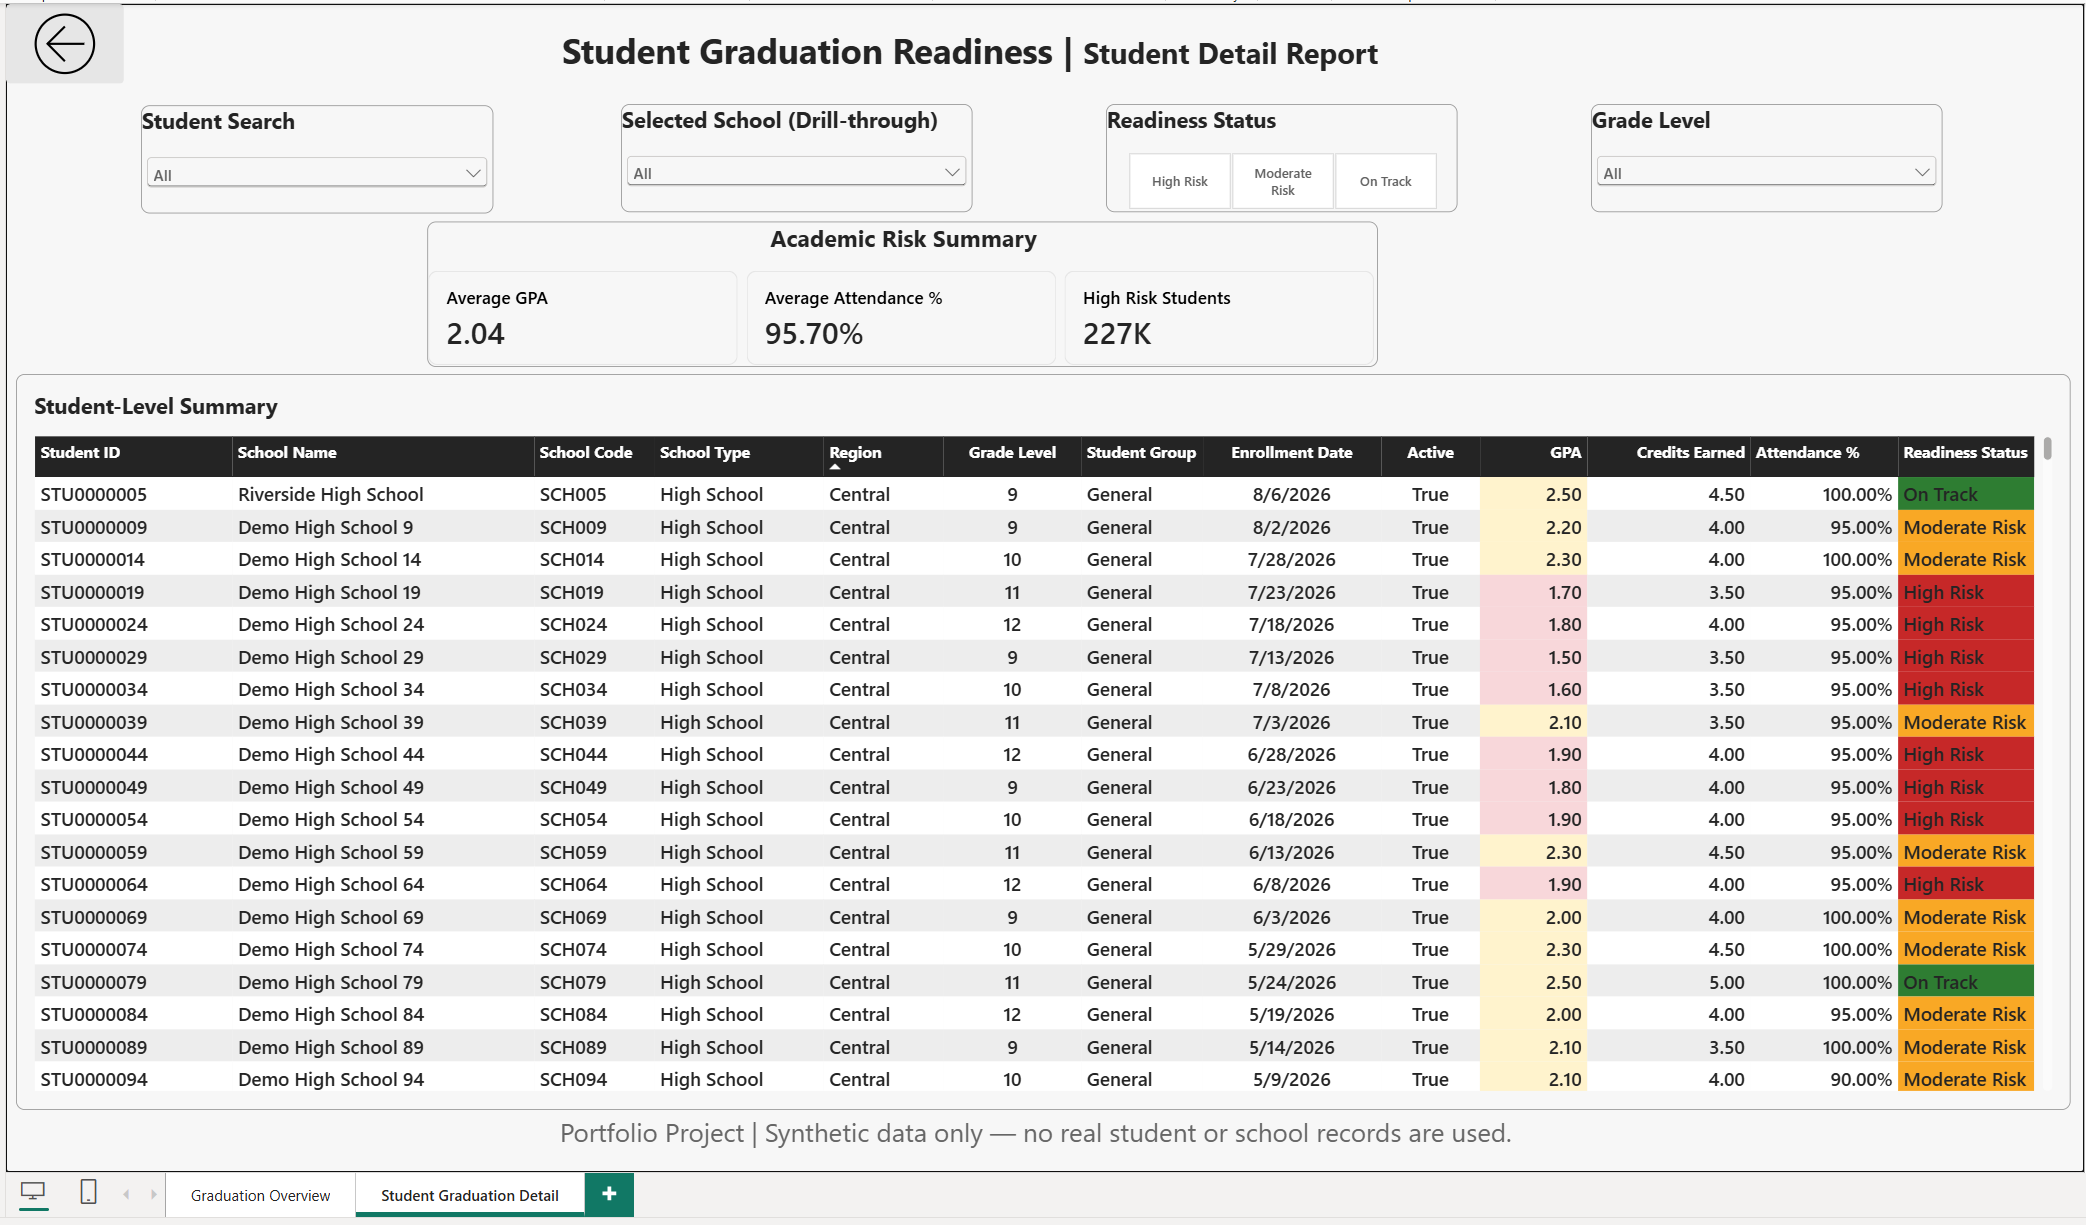

This screenshot's page, from the dashboard's own definition file:
{"tool":"powerbi","page":{"name":"Student Graduation Detail","canvas":[1920,1080],"ordinal":1},"visuals":[{"type":"actionButton","box":[0,0,109.1,73.7],"z":0},{"type":"tableEx","title":"Student-Level Summary","fields":{"Values":["DimStudent.StudentID","DimSchool.SchoolName","DimSchool.SchoolCode","DimSchool.SchoolType","DimSchool.Region","DimStudent.GradeLevel","DimStudent.StudentGroup","DimStudent.EnrollmentDate","DimSchool.IsActive","FactGraduationReadiness.GPA","FactGraduationReadiness.CreditsEarned","_Measures.Student Attendance %"]},"box":[8.8,342,1898.8,679.6],"z":1000},{"type":"slicer","title":"Selected School (Drill-through)","fields":{"Values":["DimSchool.SchoolName"]},"box":[568.7,92.6,325,100],"z":2000},{"type":"slicer","title":"Student Search","fields":{"Values":["DimStudent.StudentID"]},"box":[124.4,93.2,325.8,100.2],"z":3000},{"type":"slicer","title":"Readiness Status","fields":{"Values":["FactGraduationReadiness.ReadinessStatus"]},"box":[1016.6,92.6,325,100],"z":4000},{"type":"slicer","title":"Grade Level","fields":{"Values":["FactGraduationReadiness.GradeLevel"]},"box":[1464.5,92.6,325,100],"z":5000},{"type":"textbox","box":[452,2,878.6,97.3],"z":6000},{"type":"cardVisual","title":"Academic Risk Summary","fields":{"Data":["_Measures.Average GPA","_Measures.Average Attendance %","_Measures.High Risk Solutions"]},"box":[389.2,200.5,878.6,134.2],"z":7000},{"type":"textbox","box":[16.2,1026.1,1870.8,41.3],"z":7001}]}

Visuals, with their boxes on the page's 1920x1080 design canvas (x1, y1, x2, y2). These are canvas units, not pixel positions in the 2086x1225 screenshot, which may show the page scaled, cropped or inside an application window:
actionButton: {"left": 0, "top": 0, "right": 109, "bottom": 74}
"Student-Level Summary" tableEx: {"left": 9, "top": 342, "right": 1908, "bottom": 1022}
"Selected School (Drill-through)" slicer: {"left": 569, "top": 93, "right": 894, "bottom": 193}
"Student Search" slicer: {"left": 124, "top": 93, "right": 450, "bottom": 193}
"Readiness Status" slicer: {"left": 1017, "top": 93, "right": 1342, "bottom": 193}
"Grade Level" slicer: {"left": 1464, "top": 93, "right": 1790, "bottom": 193}
textbox: {"left": 452, "top": 2, "right": 1331, "bottom": 99}
"Academic Risk Summary" cardVisual: {"left": 389, "top": 200, "right": 1268, "bottom": 335}
textbox: {"left": 16, "top": 1026, "right": 1887, "bottom": 1067}
